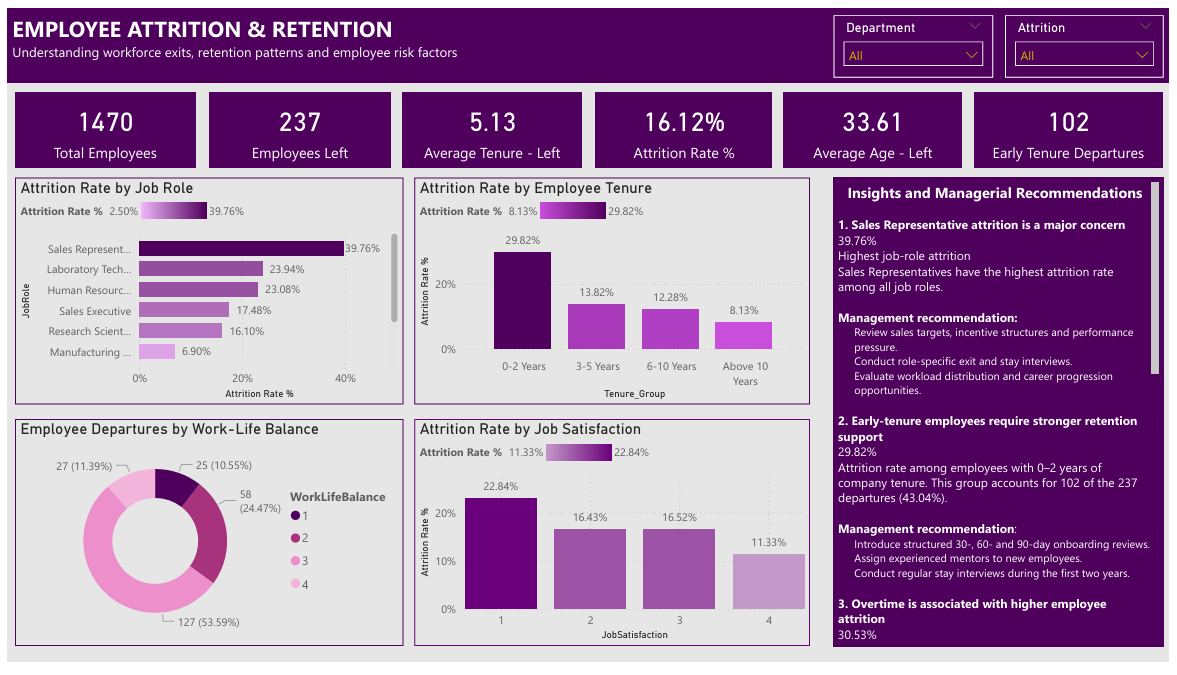

Layout of this report page (visuals, bound fields, positions):
{"tool":"powerbi","page":{"name":"02 - Attrition & Retention","canvas":[1280,720],"ordinal":1},"visuals":[{"type":"card","fields":{"Values":["HR_Analytics_Cleaned.Total Employees"]},"box":[8.5,92.3,198.5,82.3],"z":0},{"type":"card","fields":{"Values":["HR_Analytics_Cleaned.Attrition Rate %"]},"box":[647.7,92.3,195.4,82.3],"z":1000},{"type":"card","fields":{"Values":["HR_Analytics_Cleaned.Employees Left"]},"box":[221.5,92.3,200,82.3],"z":2000},{"type":"card","fields":{"Values":["HR_Analytics_Cleaned.Average Tenure - Left"]},"box":[435.4,92.3,197.7,82.3],"z":3000},{"type":"card","fields":{"Values":["HR_Analytics_Cleaned.Average Age - Left"]},"box":[855.4,92.3,196.2,82.3],"z":4000},{"type":"card","fields":{"Values":["HR_Analytics_Cleaned.Early Tenure Departures"]},"box":[1065,92,208,83],"z":5000},{"type":"textbox","box":[0,0,1280,82],"z":6000},{"type":"clusteredBarChart","title":"Attrition Rate by Job Role","fields":{"Category":["HR_Analytics_Cleaned.JobRole"],"Y":["HR_Analytics_Cleaned.Attrition Rate %"]},"box":[8,186,428,250],"z":7000},{"type":"donutChart","title":"Employee Departures by Work-Life Balance","fields":{"Category":["HR_Analytics_Cleaned.WorkLifeBalance"],"Y":["HR_Analytics_Cleaned.Employees Left"]},"box":[8,452,428,250],"z":8000},{"type":"slicer","fields":{"Values":["HR_Analytics_Cleaned.Attrition"]},"box":[1098.6,7.1,175.7,68.6],"z":9000},{"type":"slicer","fields":{"Values":["HR_Analytics_Cleaned.Department"]},"box":[910,7.1,175.7,68.6],"z":10000},{"type":"clusteredColumnChart","title":"Attrition Rate by Employee Tenure","fields":{"Y":["HR_Analytics_Cleaned.Attrition Rate %"],"Category":["HR_Analytics_Cleaned.Tenure_Group"]},"box":[448,186,436,250],"z":11000},{"type":"clusteredColumnChart","title":"Attrition Rate by Job Satisfaction","fields":{"Y":["HR_Analytics_Cleaned.Attrition Rate %"],"Category":["HR_Analytics_Cleaned.JobSatisfaction"]},"box":[448,452,436,250],"z":12000},{"type":"textbox","box":[910,186.2,363.8,516.2],"z":13000}]}

Visuals, with their boxes in screenshot pixels (x1, y1, x2, y2), scaled from the page's 1280x720 canvas onto the 1177x675 screenshot:
card - HR_Analytics_Cleaned.Total Employees: (x1=8, y1=87, x2=190, y2=164)
card - HR_Analytics_Cleaned.Attrition Rate %: (x1=596, y1=87, x2=775, y2=164)
card - HR_Analytics_Cleaned.Employees Left: (x1=204, y1=87, x2=388, y2=164)
card - HR_Analytics_Cleaned.Average Tenure - Left: (x1=400, y1=87, x2=582, y2=164)
card - HR_Analytics_Cleaned.Average Age - Left: (x1=787, y1=87, x2=967, y2=164)
card - HR_Analytics_Cleaned.Early Tenure Departures: (x1=979, y1=86, x2=1171, y2=164)
textbox: (x1=0, y1=0, x2=1176, y2=77)
"Attrition Rate by Job Role" clusteredBarChart: (x1=7, y1=174, x2=401, y2=409)
"Employee Departures by Work-Life Balance" donutChart: (x1=7, y1=424, x2=401, y2=658)
slicer - HR_Analytics_Cleaned.Attrition: (x1=1010, y1=7, x2=1172, y2=71)
slicer - HR_Analytics_Cleaned.Department: (x1=837, y1=7, x2=998, y2=71)
"Attrition Rate by Employee Tenure" clusteredColumnChart: (x1=412, y1=174, x2=813, y2=409)
"Attrition Rate by Job Satisfaction" clusteredColumnChart: (x1=412, y1=424, x2=813, y2=658)
textbox: (x1=837, y1=175, x2=1171, y2=659)
